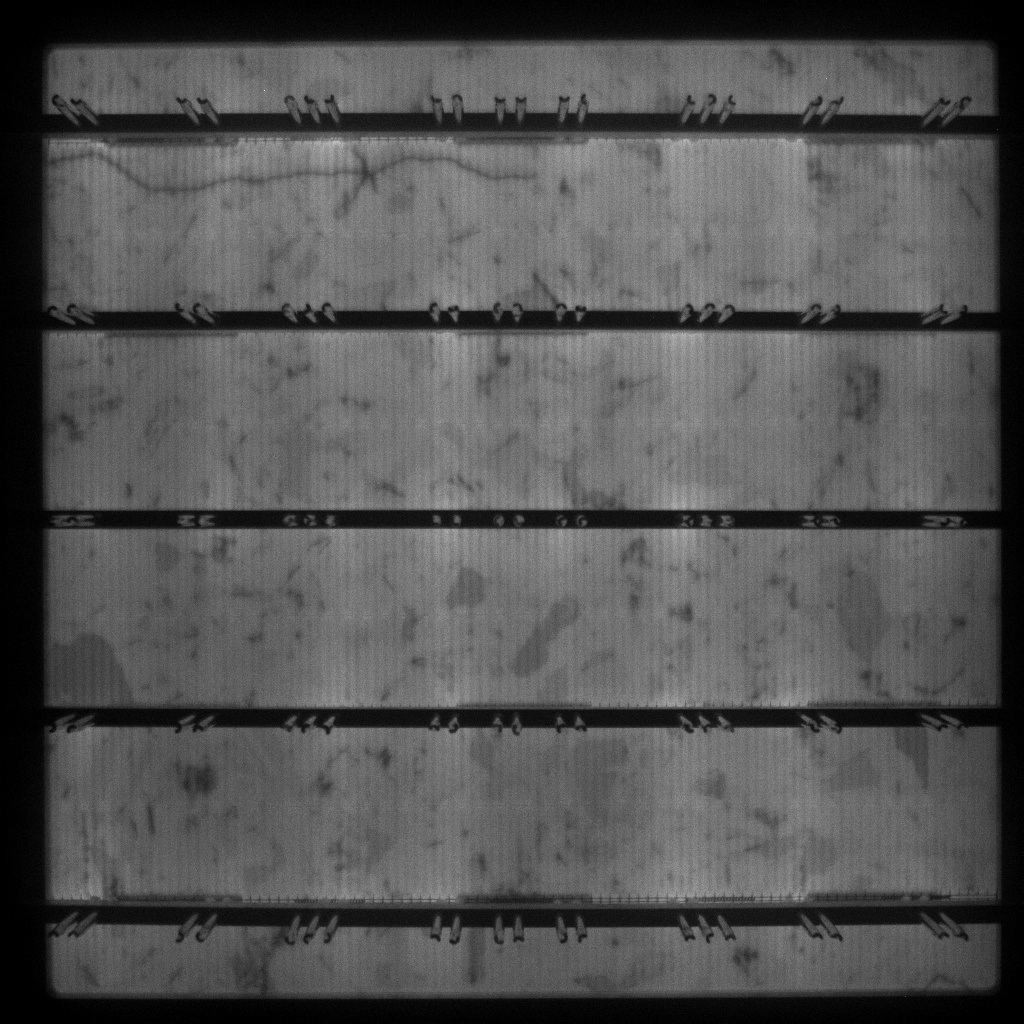crack: (50, 149, 539, 197)
